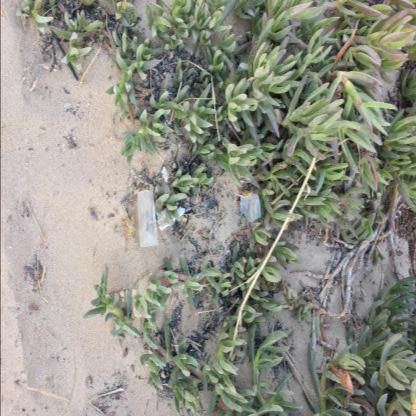Plastic bag - wrapper: (138, 191, 158, 247), (239, 191, 261, 228)
Styrofoam piece: (157, 209, 174, 231), (171, 206, 185, 222), (161, 167, 168, 183)
